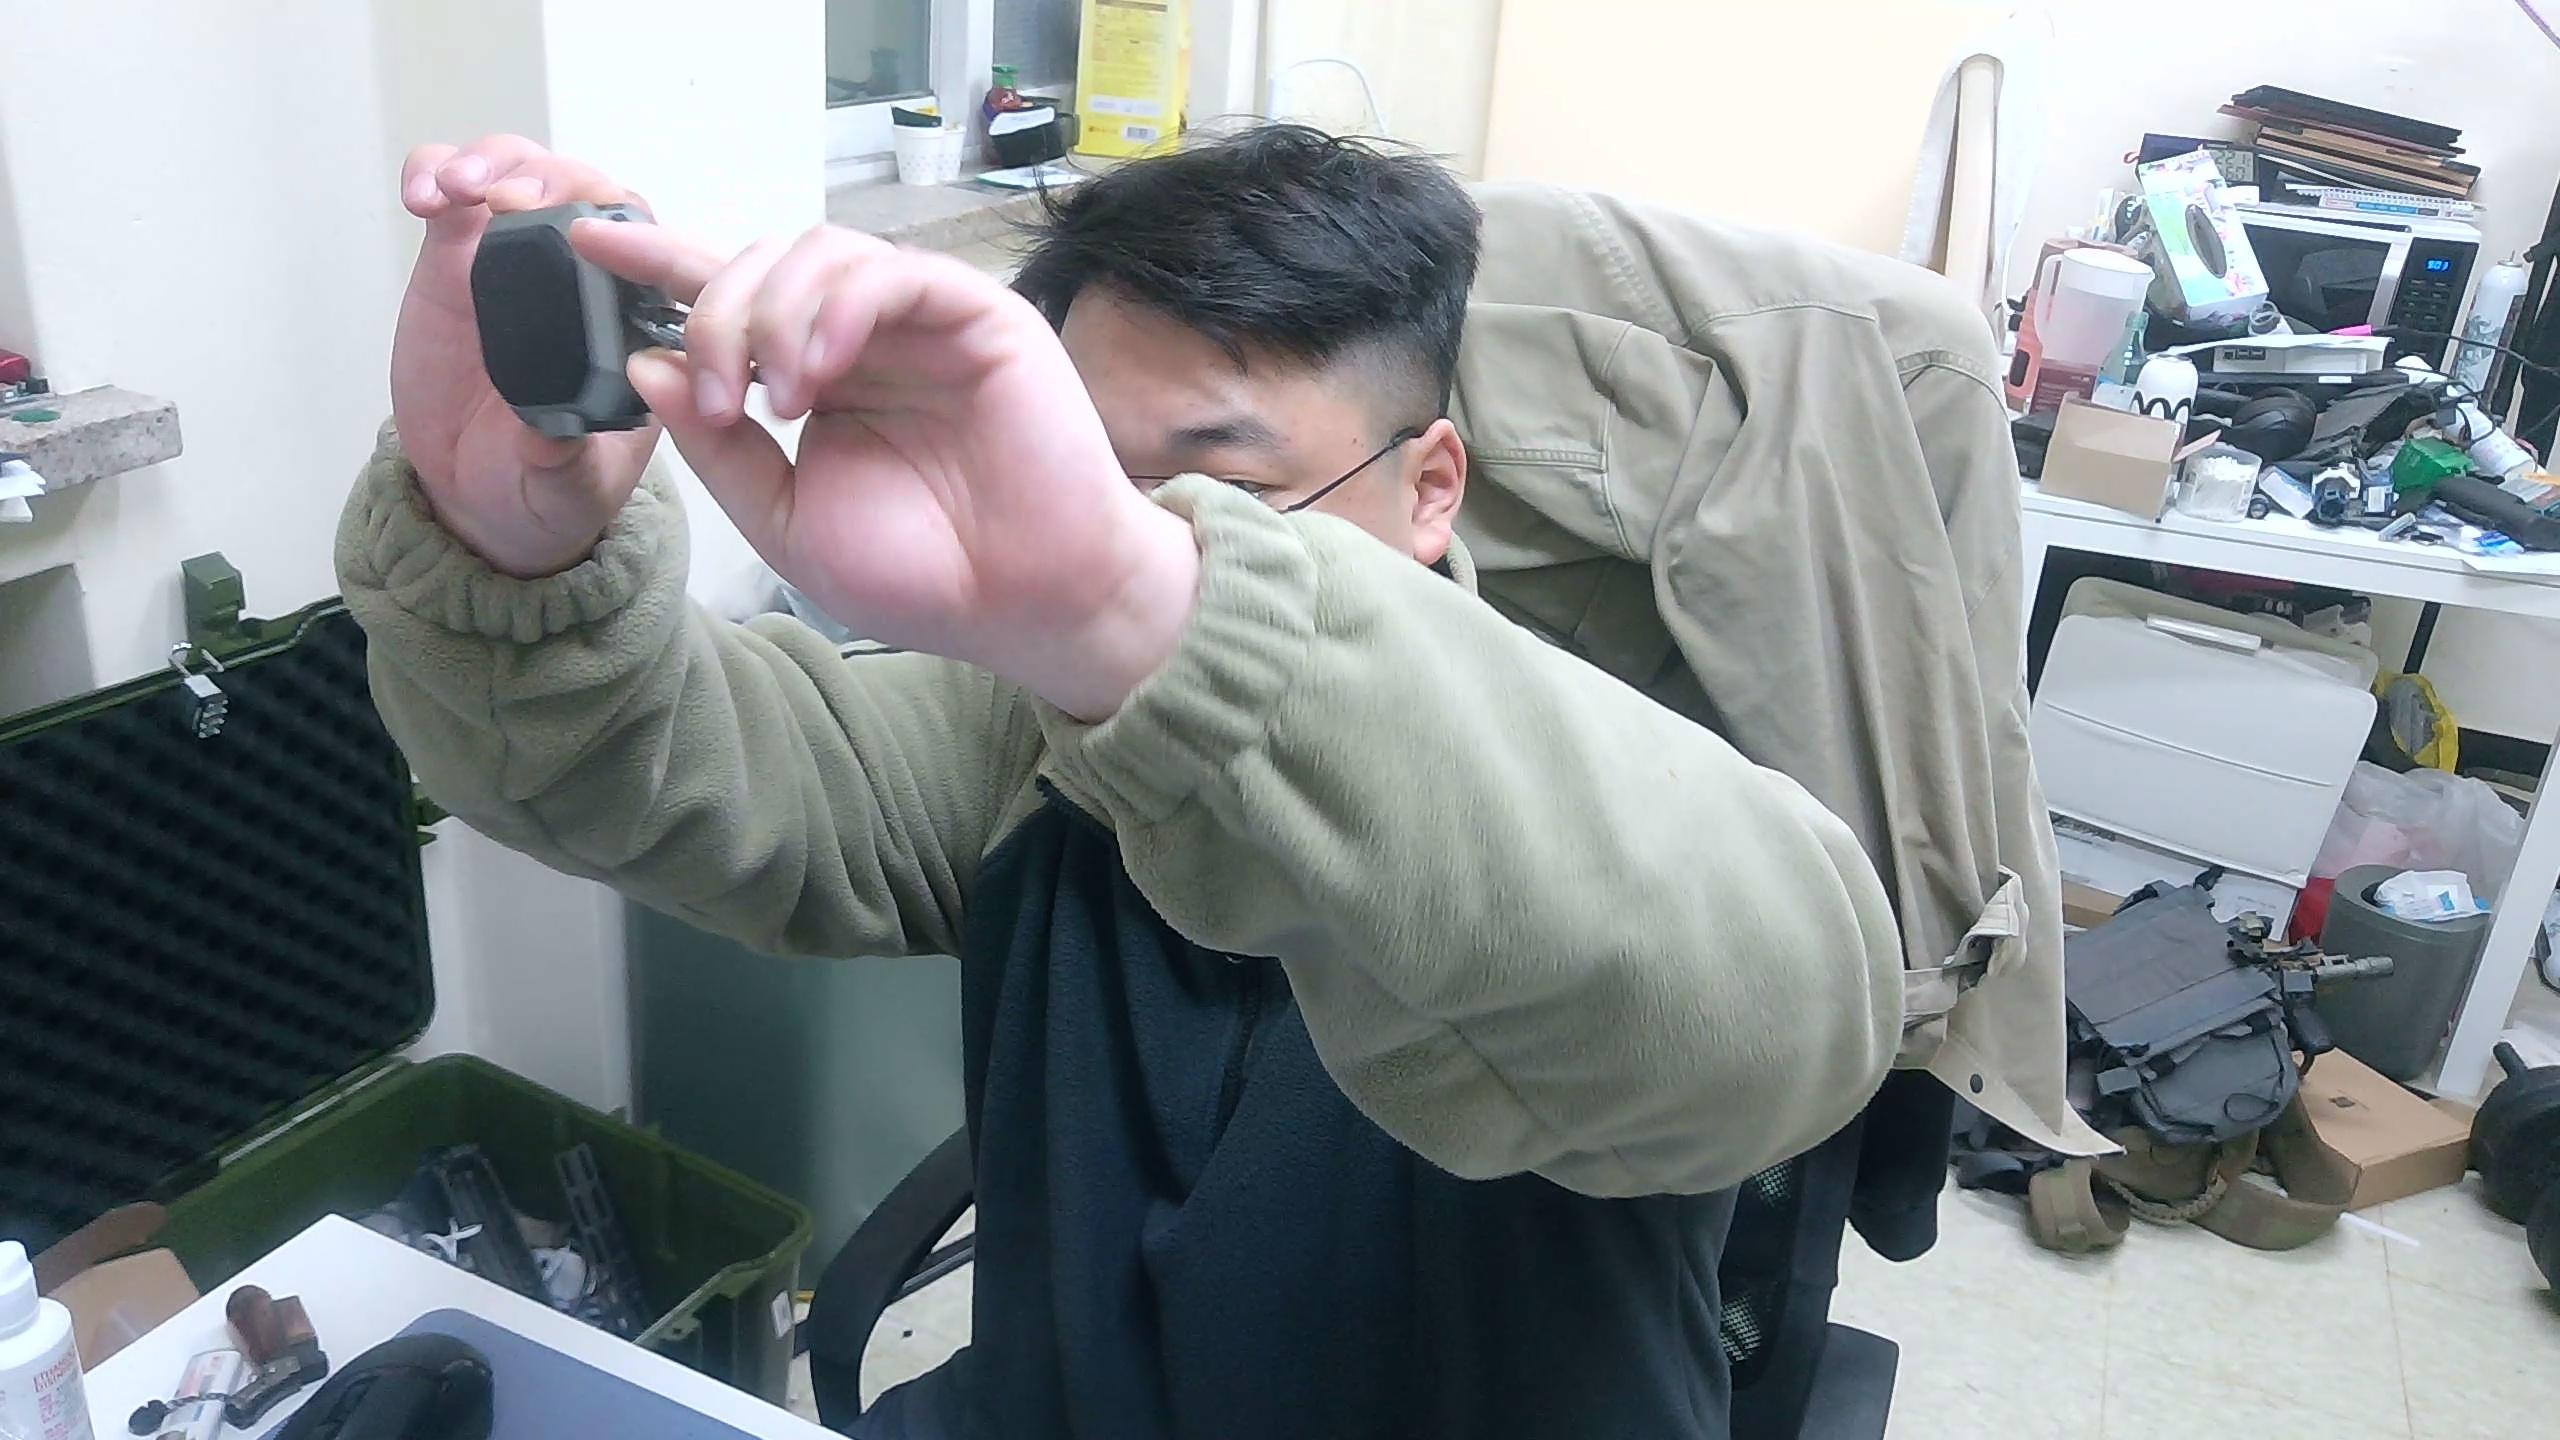blue_pliers: (468, 199, 693, 441)
